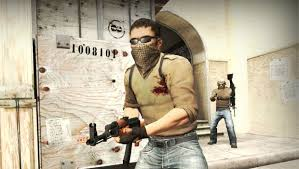gun: (85, 116, 140, 163)
